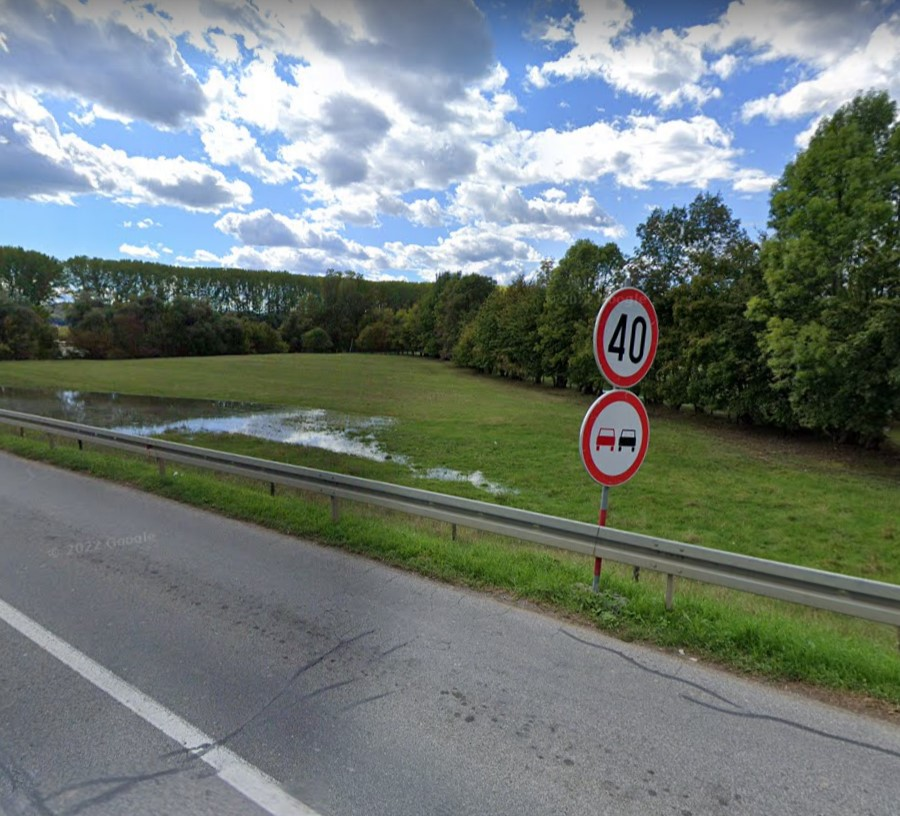Ograničenje brzine 40: (594, 286, 659, 388)
Zabrana pretjecanja: (579, 390, 650, 486)
